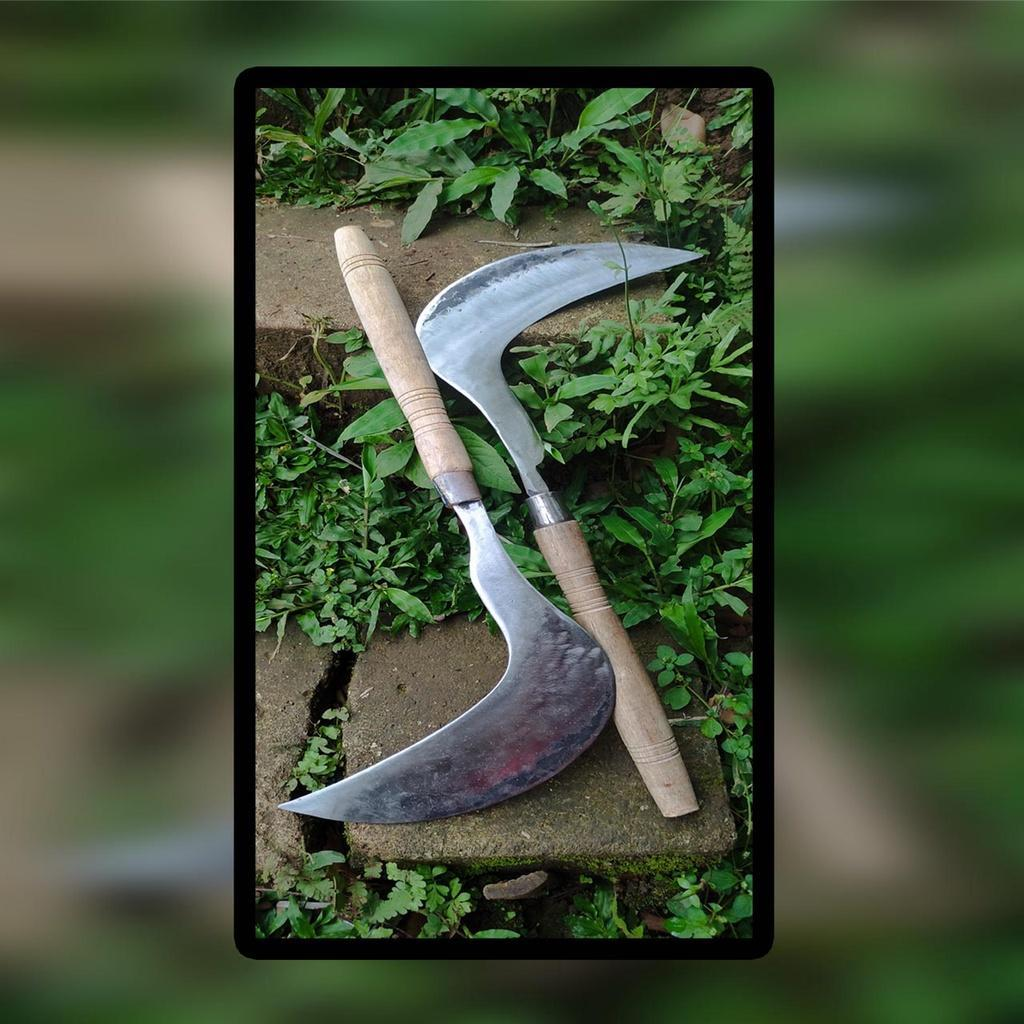foice: (300, 224, 617, 822), (426, 235, 708, 827)
